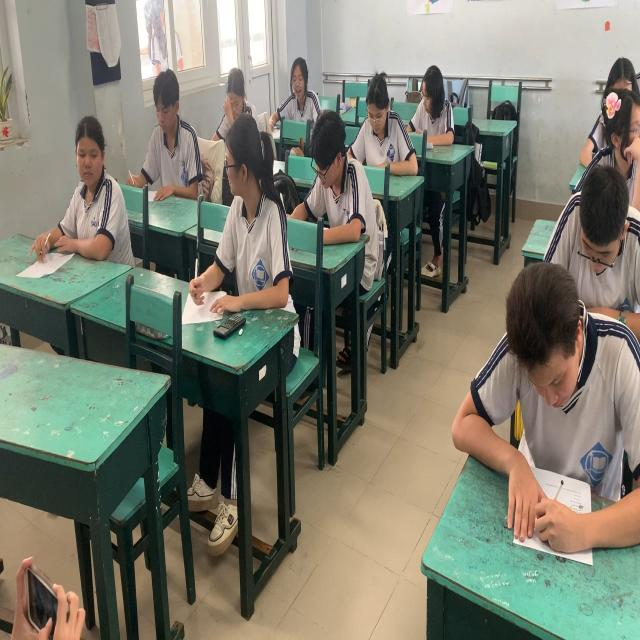cheating: (221, 114, 296, 303), (53, 103, 133, 252), (595, 82, 640, 158)
not_cheating: (457, 269, 627, 562), (566, 168, 632, 292), (148, 71, 207, 203), (308, 107, 358, 227), (411, 50, 457, 151), (361, 68, 406, 165), (288, 44, 318, 124), (228, 68, 249, 130)
